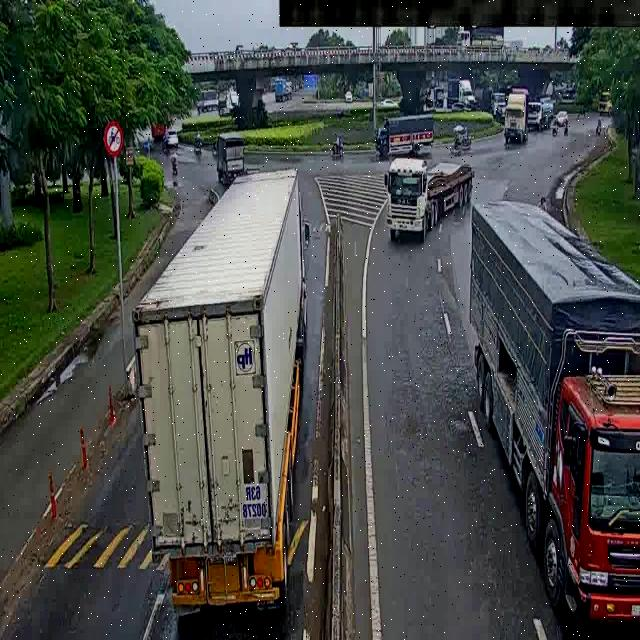bus: (466, 167, 637, 614), (545, 357, 640, 631)
car: (549, 107, 575, 124), (164, 131, 185, 151)
motorbike: (159, 149, 187, 182), (324, 131, 353, 155), (594, 112, 608, 145), (190, 131, 207, 153)
truck: (131, 170, 338, 612), (364, 132, 487, 249), (360, 118, 446, 159), (496, 83, 537, 153), (205, 133, 253, 184), (442, 74, 477, 110), (528, 93, 559, 133)
